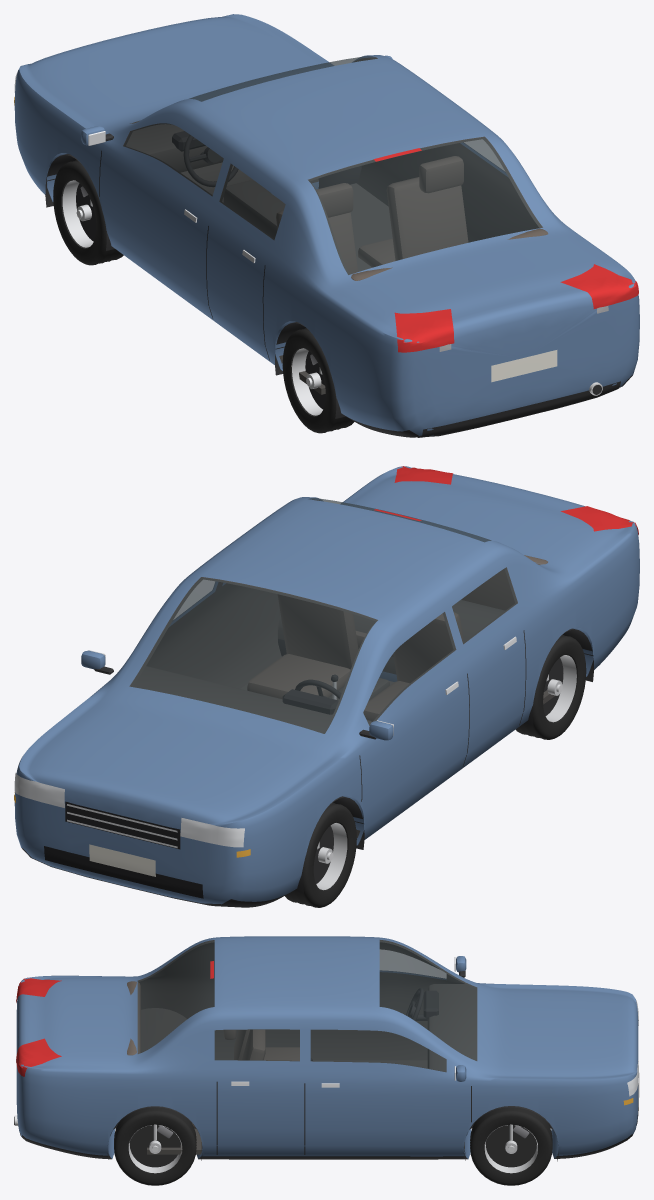
The model's file is arden_saloon.glb.
The picture shows the model from 3 angles, top to bottom: view 1: azimuth 30°, elevation 25°; view 2: azimuth 150°, elevation 25°; view 3: azimuth 270°, elevation 25°; orthographic projection. The views are drawn at different scales.
Parts seen in each view (by area): view 1: Body, Glass, Interior, Wheel_FL, Wheel_RL, Lights_Tail, SteeringWheel; view 2: Body, Glass, Interior, Wheel_FL, Wheel_RL, Lights_Head, Lights_Tail; view 3: Body, Glass, Interior, Wheel_FR, Wheel_RR, Lights_Tail.
Part boxes in pixels (x1,y1,x2,y2): Body: (14, 14, 639, 437); Glass: (124, 56, 542, 274); Interior: (123, 57, 548, 394); Wheel_FL: (53, 160, 123, 265); Wheel_RL: (282, 328, 354, 433); Lights_Tail: (394, 264, 638, 352); SteeringWheel: (183, 135, 238, 187); Body: (14, 466, 639, 907); Glass: (130, 498, 539, 733); Interior: (129, 499, 555, 837); Wheel_FL: (285, 802, 356, 907); Wheel_RL: (515, 634, 586, 739); Lights_Head: (14, 773, 244, 847); Lights_Tail: (394, 466, 638, 534); Body: (14, 936, 639, 1161); Glass: (137, 940, 476, 1071); Interior: (127, 940, 477, 1154); Wheel_FR: (470, 1107, 552, 1185); Wheel_RR: (114, 1107, 196, 1185); Lights_Tail: (16, 977, 61, 1076).
Bounding box in the file's own units: 2.15 × 1.46 × 4.85.
